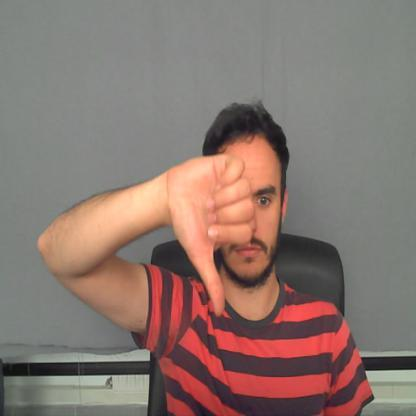thumbs-down: (164, 155, 257, 321)
